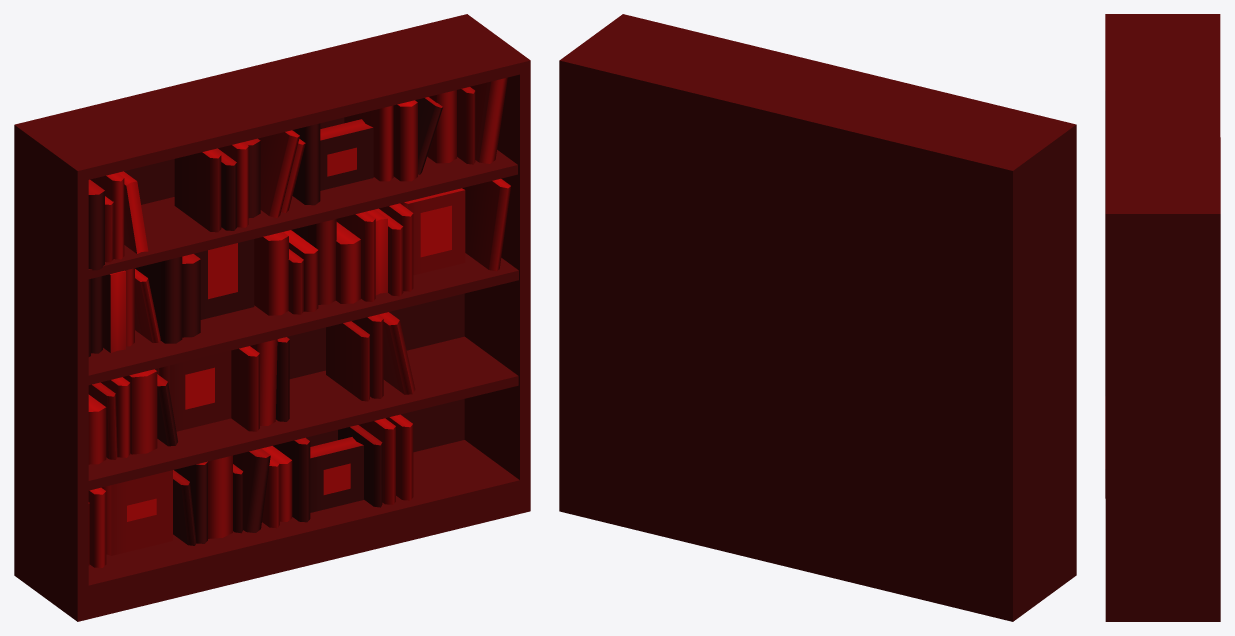
The model's file is BookShelf004.glb.
The picture shows the model from 3 angles, left to right: view 1: azimuth 30°, elevation 25°; view 2: azimuth 150°, elevation 25°; view 3: azimuth 270°, elevation 25°; orthographic projection. The views are drawn at different scales.
Parts seen in each view (by area): view 1: BookShelf004; view 2: BookShelf004; view 3: BookShelf004.
Boxes of the visible parts, x1,y1,x2,y2 form: BookShelf004: [14, 14, 530, 621]; BookShelf004: [559, 14, 1076, 621]; BookShelf004: [1105, 14, 1220, 621].
Size of the model in its own units: 8.91 by 8.47 by 2.17.
